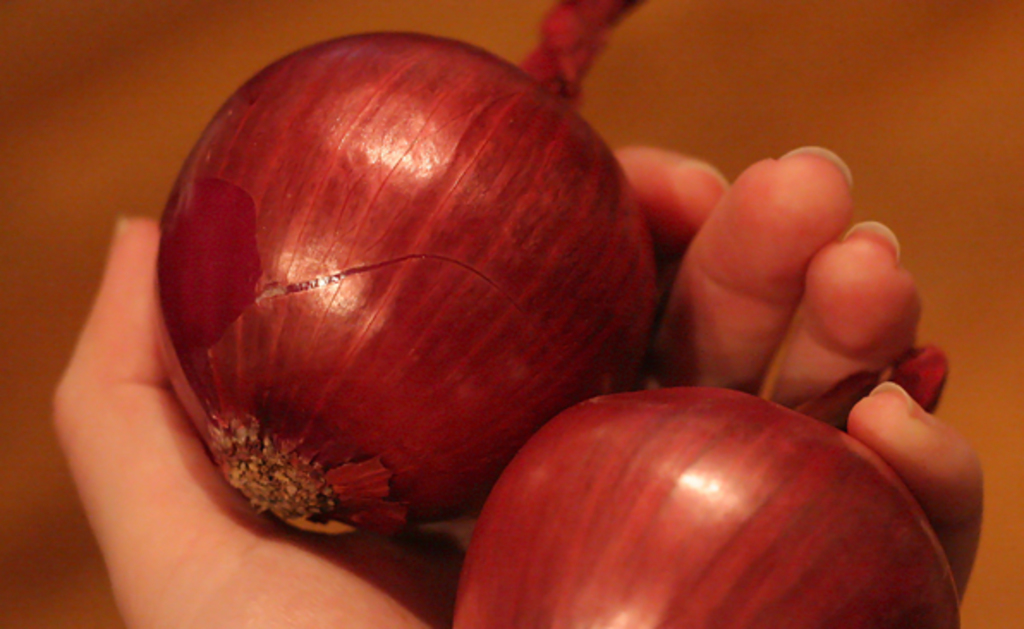Human_hand: (47, 145, 984, 629)
